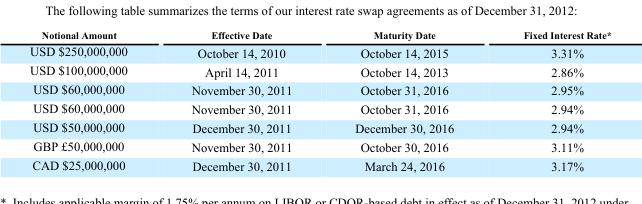table: (29, 29, 610, 172)
table column: (322, 29, 488, 172), (158, 29, 322, 172), (29, 29, 158, 172), (488, 29, 610, 172)
table column header: (29, 29, 610, 42)
table row: (29, 42, 610, 61), (29, 61, 610, 80), (29, 80, 610, 99), (29, 99, 610, 118), (29, 136, 610, 155), (29, 118, 610, 136), (29, 155, 610, 172), (29, 29, 610, 42)
